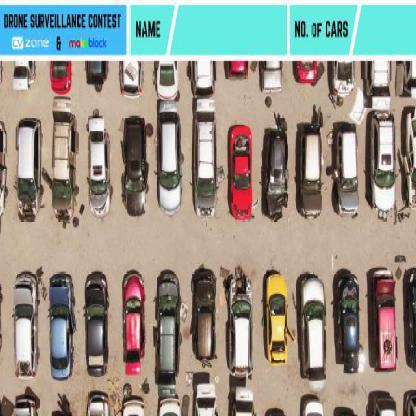car: (369, 92, 399, 210), (51, 96, 77, 222), (50, 278, 78, 382), (122, 121, 152, 217), (155, 276, 181, 382), (84, 276, 110, 380), (87, 117, 113, 217), (337, 274, 362, 378), (121, 271, 147, 370), (18, 120, 44, 216), (371, 273, 394, 379), (193, 118, 218, 215), (14, 273, 38, 374), (229, 281, 255, 372), (157, 120, 181, 216), (192, 268, 216, 362), (264, 131, 289, 217), (230, 129, 254, 217), (303, 291, 327, 379), (336, 131, 359, 215), (298, 139, 322, 217), (269, 284, 289, 364), (404, 285, 415, 376), (194, 376, 216, 415), (85, 392, 115, 415), (368, 393, 399, 415), (50, 62, 72, 92), (158, 63, 175, 99), (12, 61, 32, 91), (8, 395, 37, 415), (300, 397, 325, 415), (405, 390, 415, 414)
